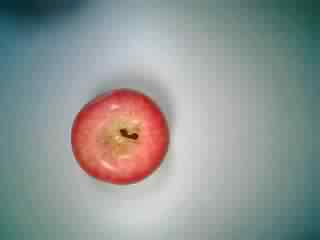apple: (66, 85, 172, 189)
